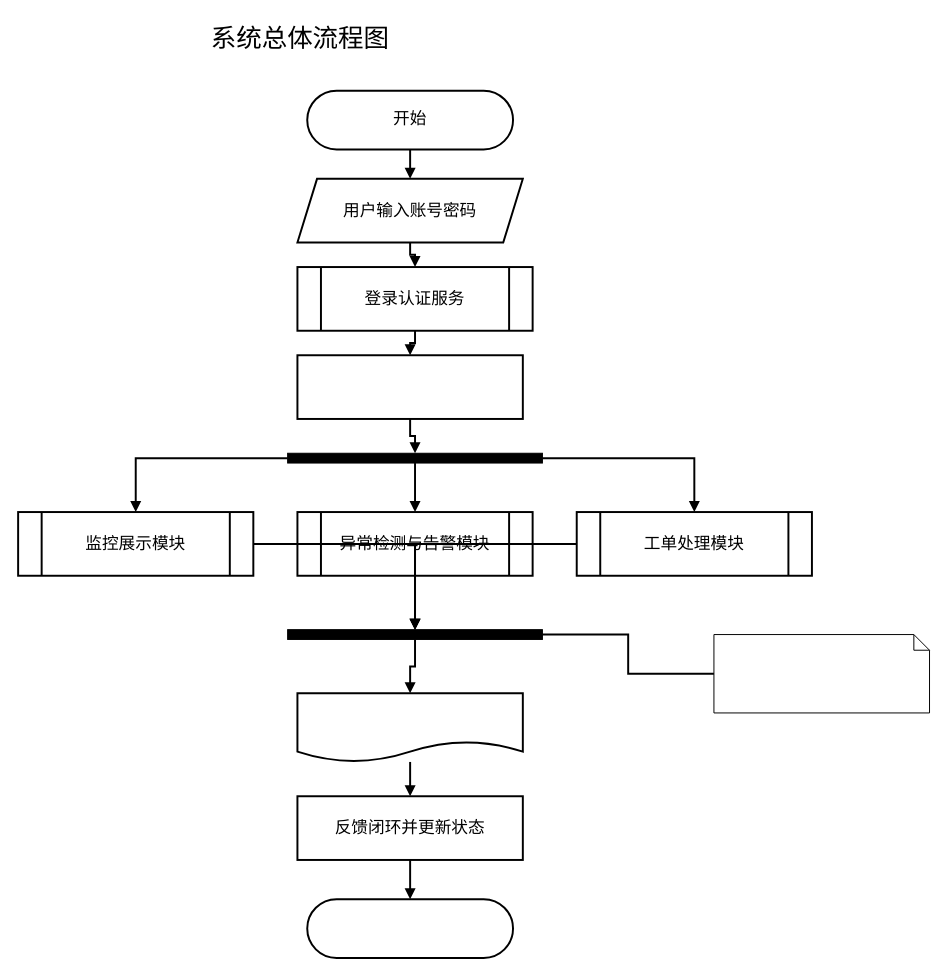
This 947x975 diagram has some shape labels left out. The shapes that lost their labels are listed below. From the top down, each one's box as (x1, y1, x2, y2) in pixels, then its label:
(296, 354, 523, 419): 进入系统首页
(713, 634, 930, 713): 并行方式表示用户可在监控、告警、工单模块间切换处理。
(296, 692, 523, 762): 形成运行记录与处理结果
(306, 898, 514, 958): 结束
